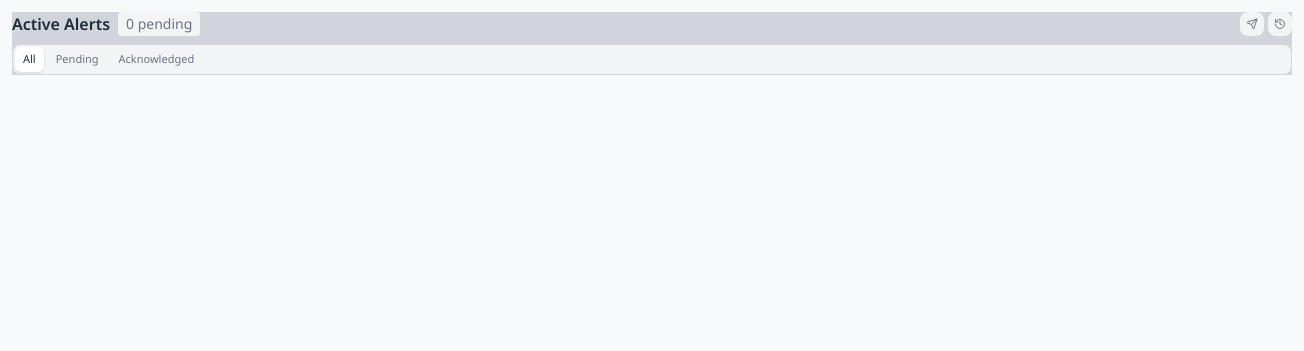
Test case: prototype integrity copy › notification copy limits enqueueing to new high-risk alert rows and disclaims atomic delivery
The width and height of the screenshot is (1304, 351).
Click the button named "Notification log".
click(1252, 24)  # box [1240,12,1264,36]
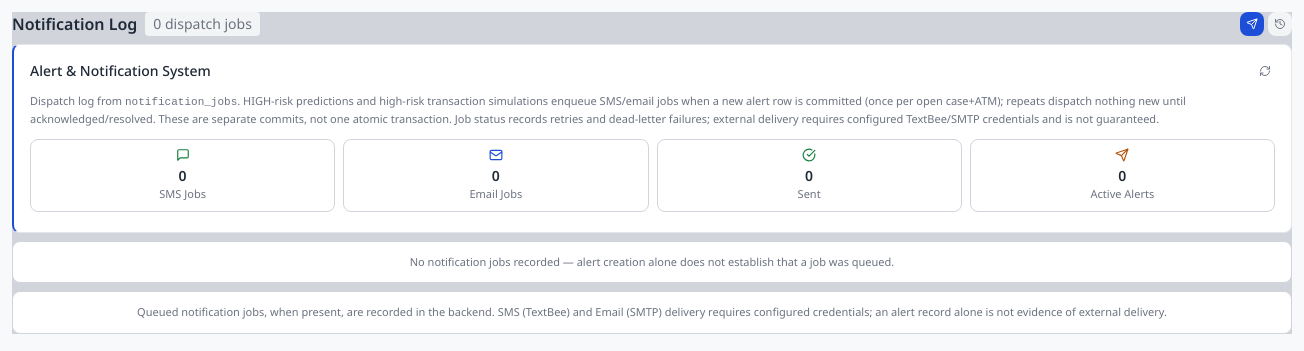
Now the text "No notification jobs recorded" is shown, box [410,254,894,268]
Now the text "HIGH-risk predictions and" is shown, box [30,93,1186,126]
Now the text "once per open case+ATM" is shown, box [30,93,1186,126]
